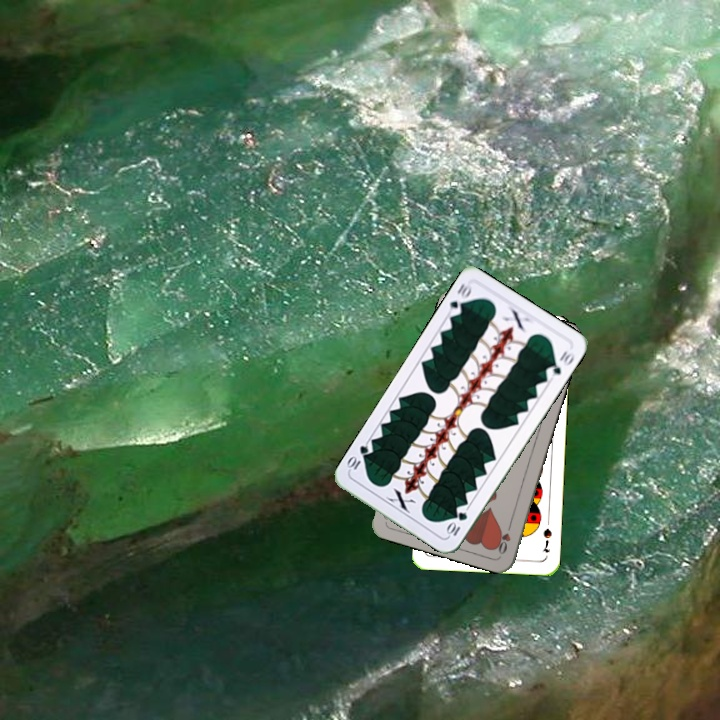G10: (444, 279, 475, 319), (443, 508, 470, 539)
HO: (494, 517, 515, 557)
S7: (538, 524, 554, 555)
